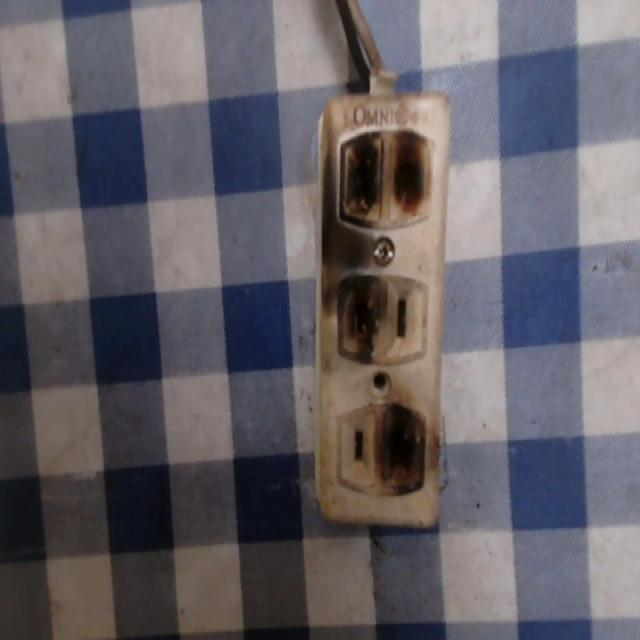-: (321, 121, 453, 239), (327, 264, 389, 371), (375, 397, 428, 499)
